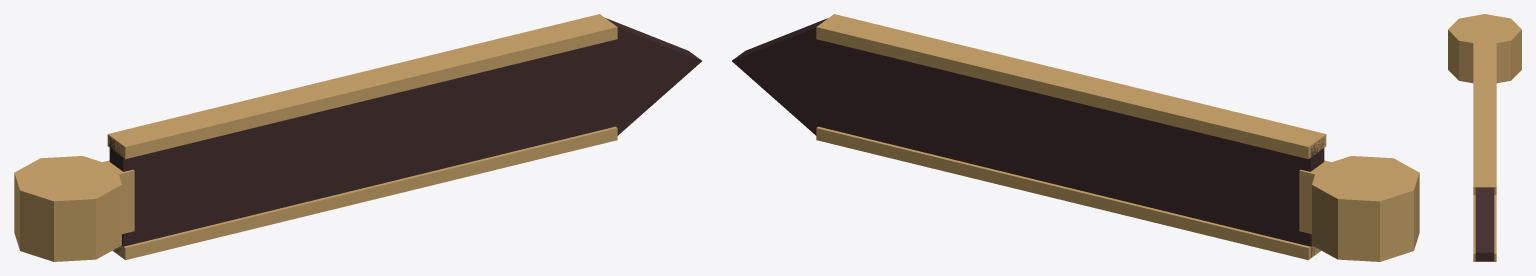
Rendered from direction_sign_board.glb.
3 views of the same model, side by side, from view 1: azimuth 30°, elevation 25°; view 2: azimuth 150°, elevation 25°; view 3: azimuth 270°, elevation 25° (orthographic). The views are drawn at different scales.
Parts seen in each view (by area): view 1: DirectionSignBoard / Timber, DirectionSignBoard / Bronze; view 2: DirectionSignBoard / Timber, DirectionSignBoard / Bronze; view 3: DirectionSignBoard / Bronze, DirectionSignBoard / Timber.
Boxes of the visible parts, x1,y1,x2,y2 form: DirectionSignBoard / Timber: (109,18,701,255); DirectionSignBoard / Bronze: (14,14,617,261); DirectionSignBoard / Timber: (732,18,1324,256); DirectionSignBoard / Bronze: (816,14,1419,261); DirectionSignBoard / Bronze: (1448,14,1521,261); DirectionSignBoard / Timber: (1475,187,1494,261).
Size of the model in its own units: 1.4 by 0.224 by 0.2.
